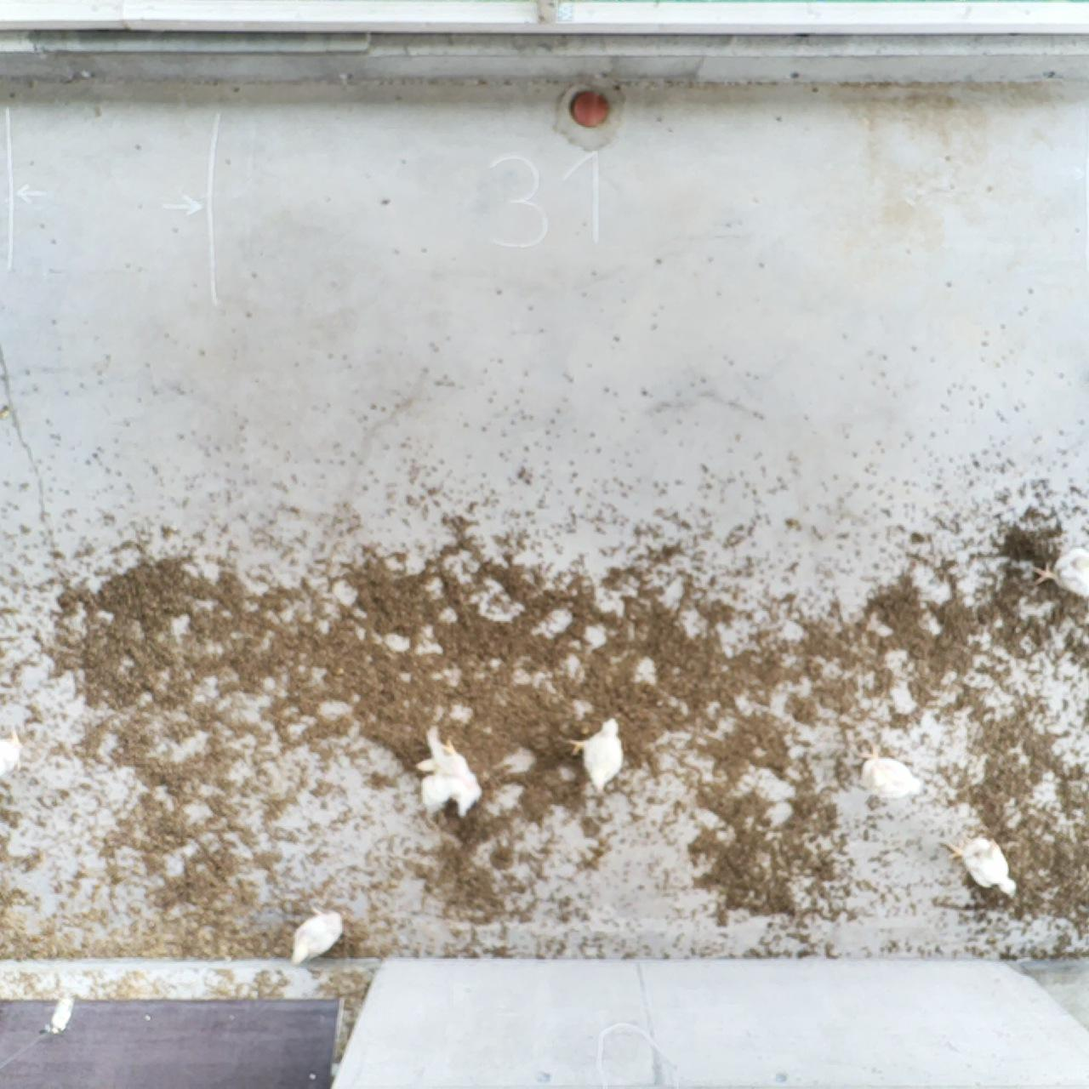chicken: (416, 724, 489, 824), (943, 827, 1021, 903), (568, 714, 627, 795), (288, 899, 353, 969), (852, 743, 928, 799), (1027, 544, 1089, 599), (0, 720, 30, 779)
